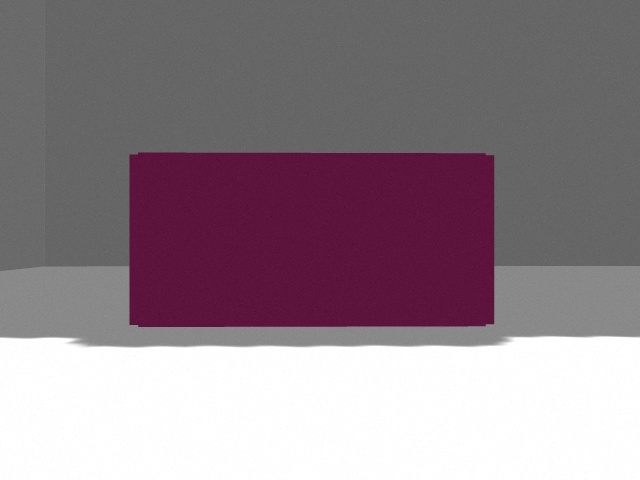red_drop_zone: (129, 152, 494, 327)
